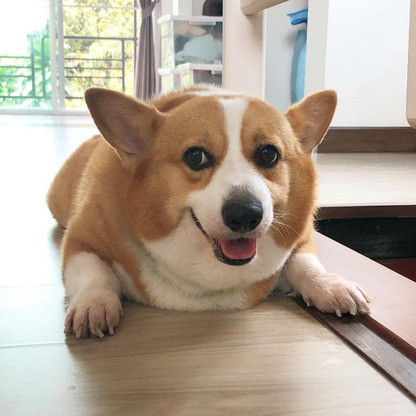Corgi: (36, 77, 376, 339)
